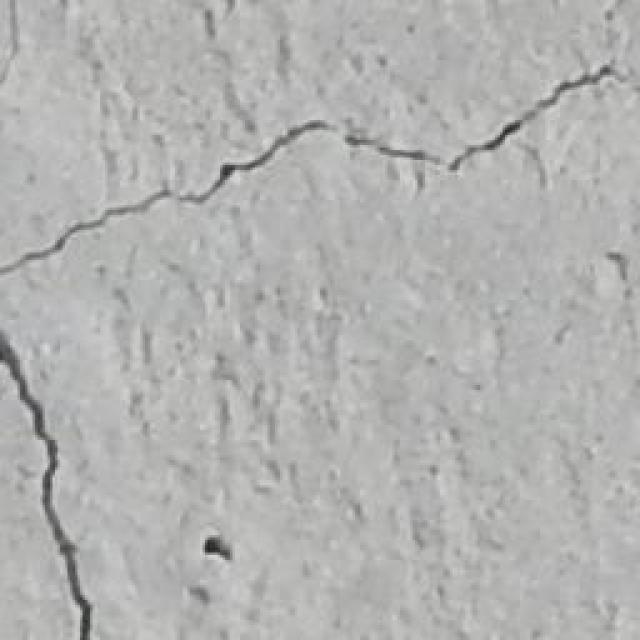diagonal crack: (11, 59, 632, 304), (2, 332, 115, 631)
